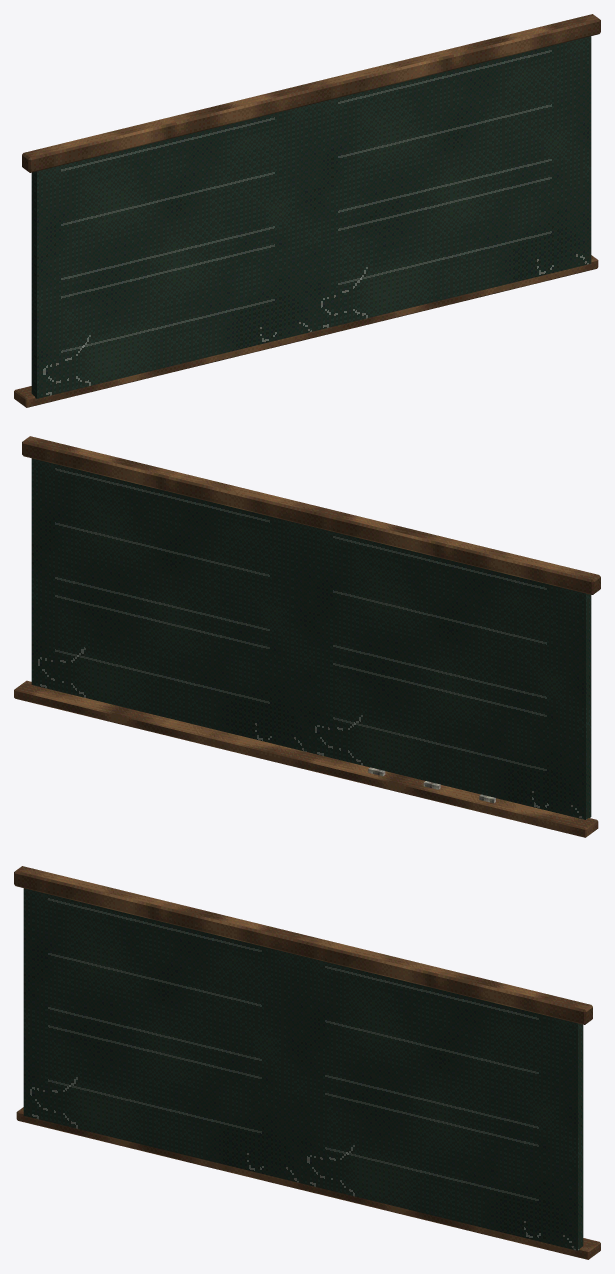
The model's file is int_chalkboard.glb.
3 views of the same model, one above another, from view 1: azimuth 30°, elevation 25°; view 2: azimuth 150°, elevation 25°; view 3: azimuth 330°, elevation 25° (orthographic).
Parts seen in each view (by area): view 1: int_chalkboard_mesh; view 2: int_chalkboard_mesh; view 3: int_chalkboard_mesh.
Boxes of the visible parts, bbox=[...] form: int_chalkboard_mesh: bbox=[14, 14, 600, 407]; int_chalkboard_mesh: bbox=[14, 436, 600, 837]; int_chalkboard_mesh: bbox=[14, 866, 600, 1259].
Bounding box in the file's own units: 3.1 × 1.3 × 0.15.
Materials: 3 (3 with a texture image).
